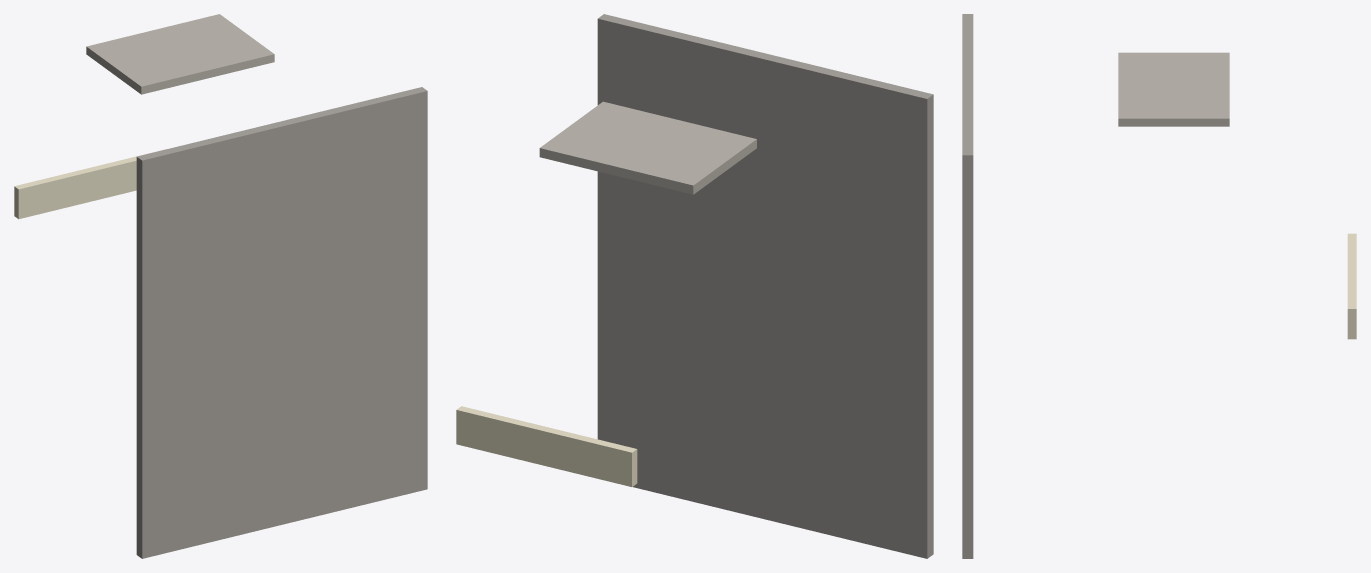
Rendered from hospital_ward.glb.
The picture shows the model from 3 angles, left to right: view 1: azimuth 30°, elevation 25°; view 2: azimuth 150°, elevation 25°; view 3: azimuth 270°, elevation 25°; orthographic projection. The views are drawn at different scales.
Visible parts, largest first — view 1: floor, window, light_slot; view 2: floor, window, light_slot; view 3: window, floor, light_slot.
Boxes of the visible parts, bbox=[...] form: floor: bbox=[136, 87, 427, 558]; window: bbox=[86, 14, 274, 94]; light_slot: bbox=[14, 149, 165, 219]; floor: bbox=[597, 14, 933, 558]; window: bbox=[539, 101, 756, 194]; light_slot: bbox=[456, 406, 637, 486]; window: bbox=[1118, 52, 1229, 126]; floor: bbox=[962, 14, 973, 558]; light_slot: bbox=[1347, 233, 1356, 339].
Bounding box in the file's own units: 3 × 4 × 3.54.
